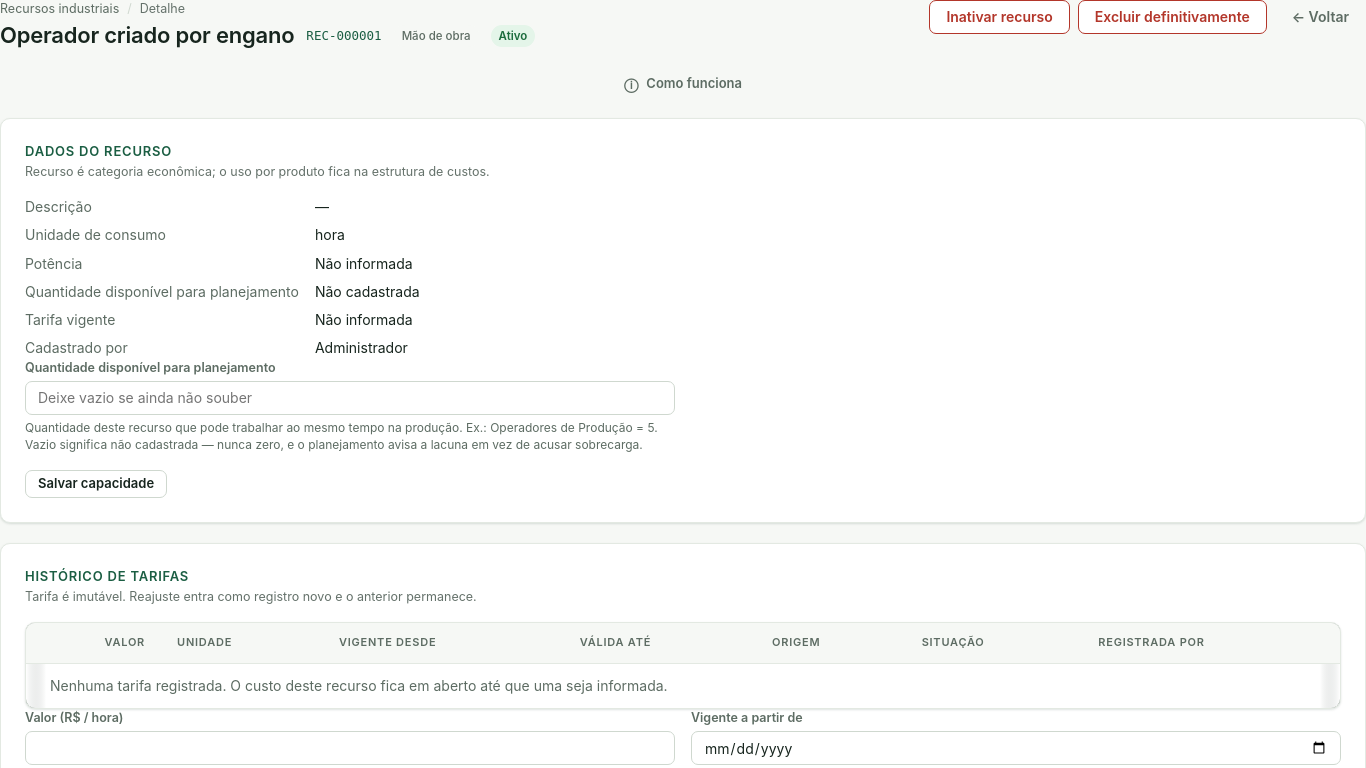
Scenario: Administrador › bloqueado (tarifa): mostra o porquê, sem excluir, e a saída abre o Inativar de sempre
Click the button "Excluir definitivamente".
click(1172, 17)  # box [1078,0,1267,34]
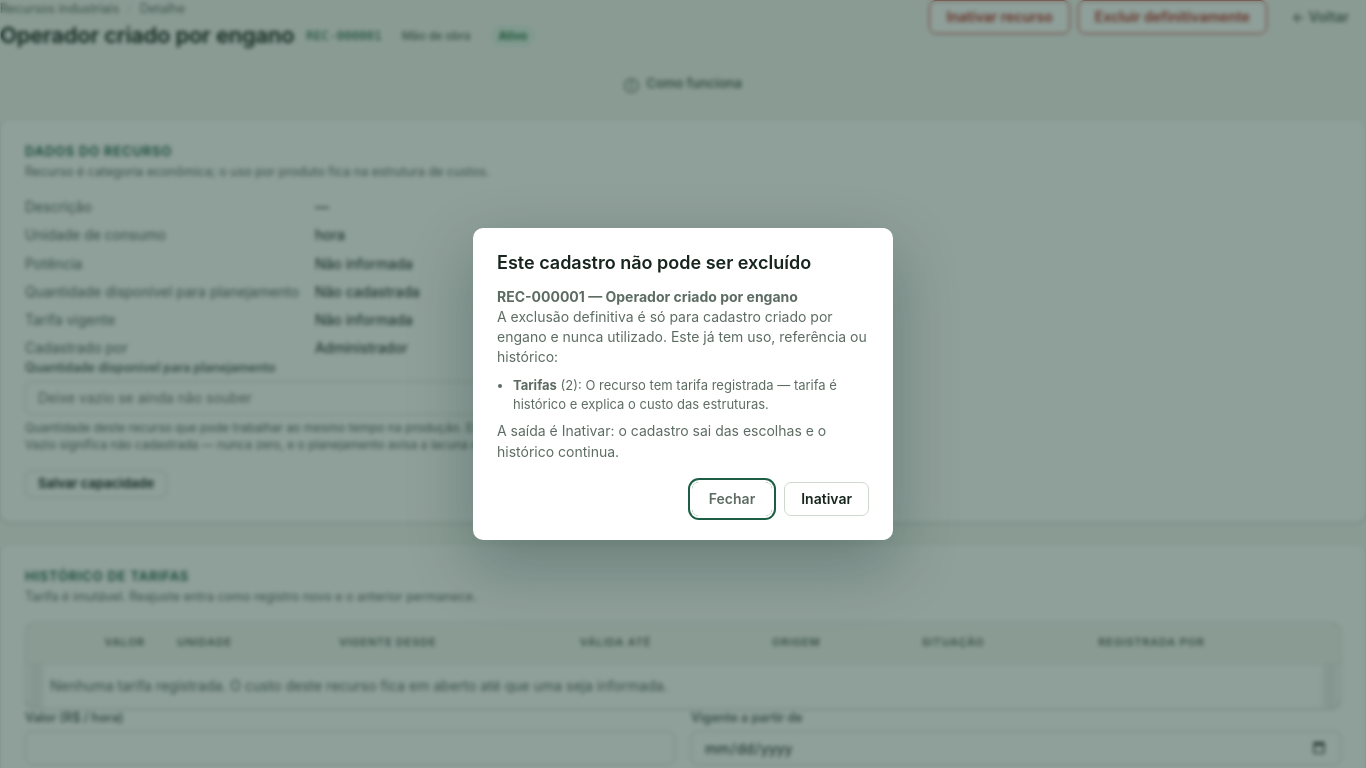
Expected: the text "Tarifas" is shown, [513,377,557,393]
Click the button "Inativar".
click(827, 499)  # box [784,482,869,516]
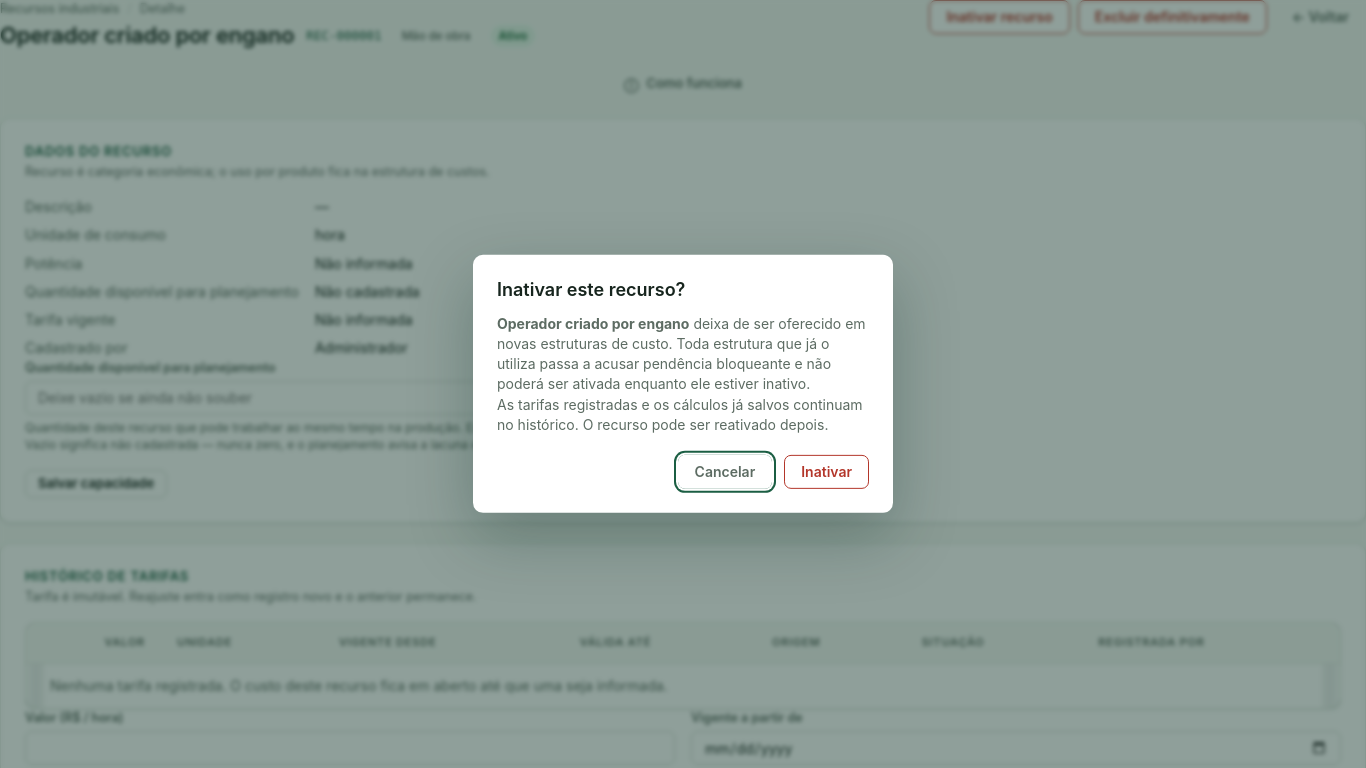
Expected: the heading "Inativar este recurso?" is shown, [497,279,685,300]
